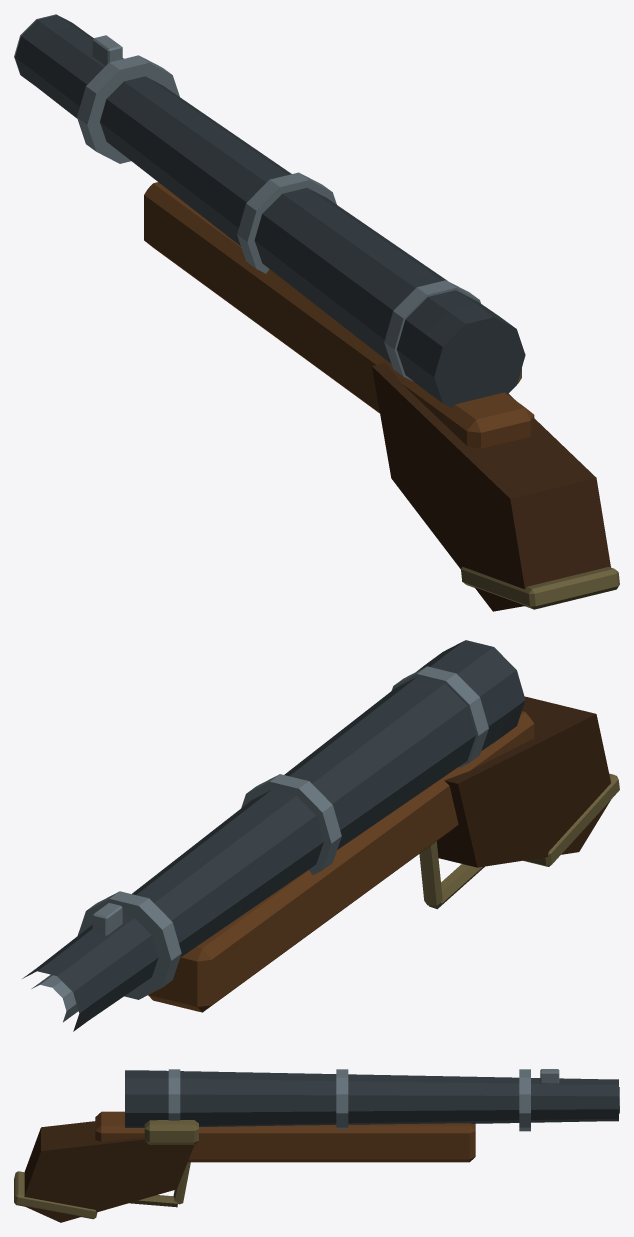
File: Musket.glb
The picture shows the model from 3 angles, top to bottom: view 1: azimuth 30°, elevation 25°; view 2: azimuth 150°, elevation 25°; view 3: azimuth 270°, elevation 25°; orthographic projection. The views are drawn at different scales.
Visible parts, largest first — view 1: Sculpture; view 2: Sculpture; view 3: Sculpture.
Part boxes in pixels (x1=…): Sculpture: x1=14, y1=14, x2=619, y2=611; Sculpture: x1=22, y1=640, x2=619, y2=1031; Sculpture: x1=14, y1=1069, x2=619, y2=1222.
Size of the model in its own units: 0.148 by 0.313 by 1.23.
